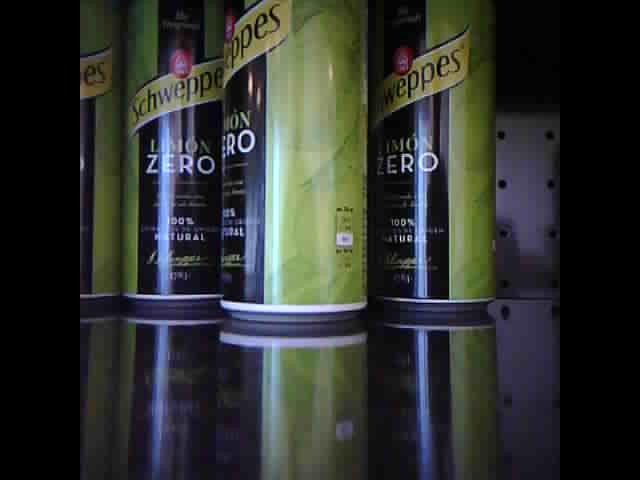schweppes: (220, 1, 369, 325), (378, 3, 493, 314), (121, 1, 221, 309), (78, 1, 122, 306)
